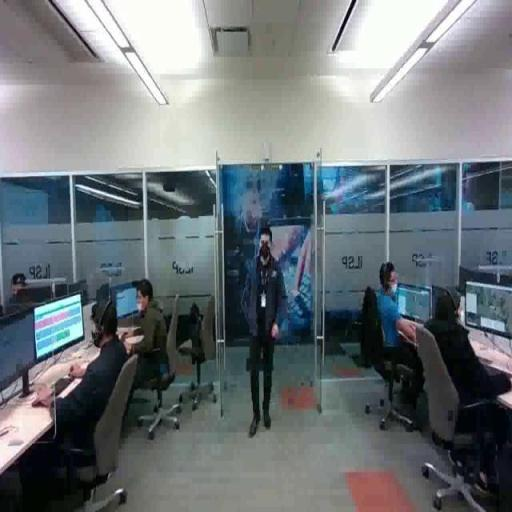person: (241, 226, 289, 440)
